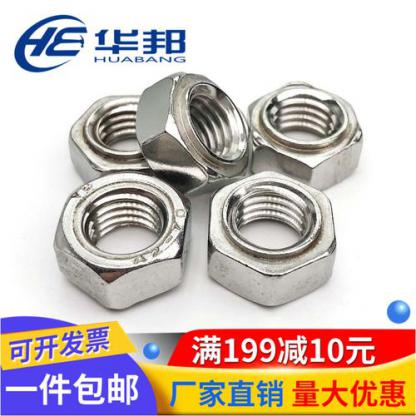FOD: (53, 170, 195, 313), (205, 168, 340, 308), (135, 64, 256, 194), (244, 79, 368, 191), (64, 88, 184, 191)
